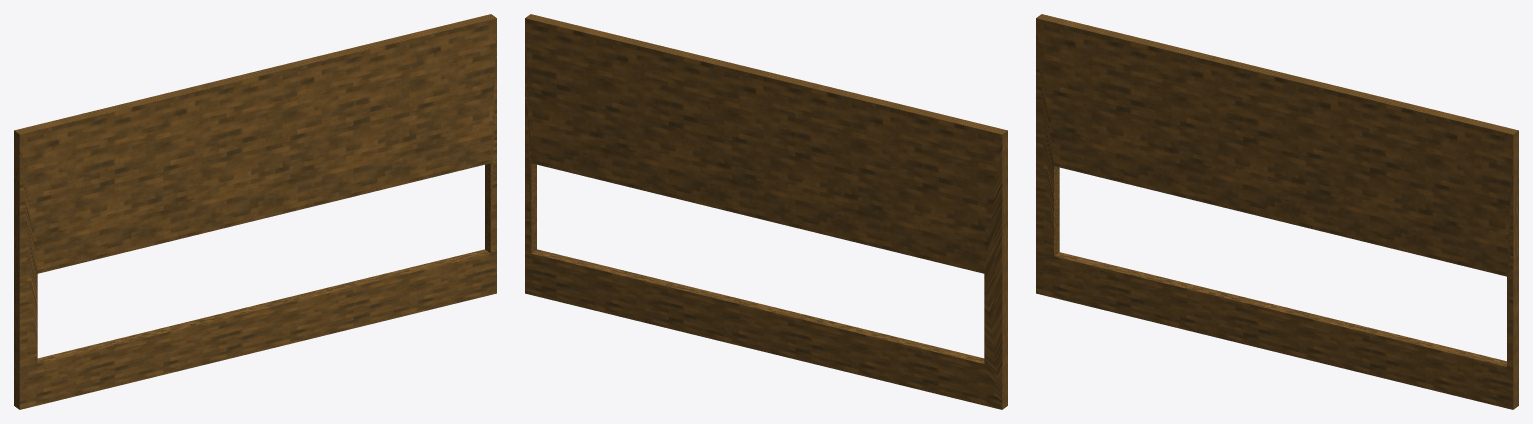
Rendered from wall_left.fbx.
3 views of the same model, side by side, from view 1: azimuth 30°, elevation 25°; view 2: azimuth 150°, elevation 25°; view 3: azimuth 330°, elevation 25° (orthographic).
Visible parts, largest first — view 1: wall_left; view 2: wall_left; view 3: wall_left.
Part boxes in pixels (x1,y1,x2,y2): wall_left: [14, 14, 496, 409]; wall_left: [525, 14, 1007, 409]; wall_left: [1036, 14, 1518, 409].
Size of the model in its own units: 3824 by 2108 by 79.58.
